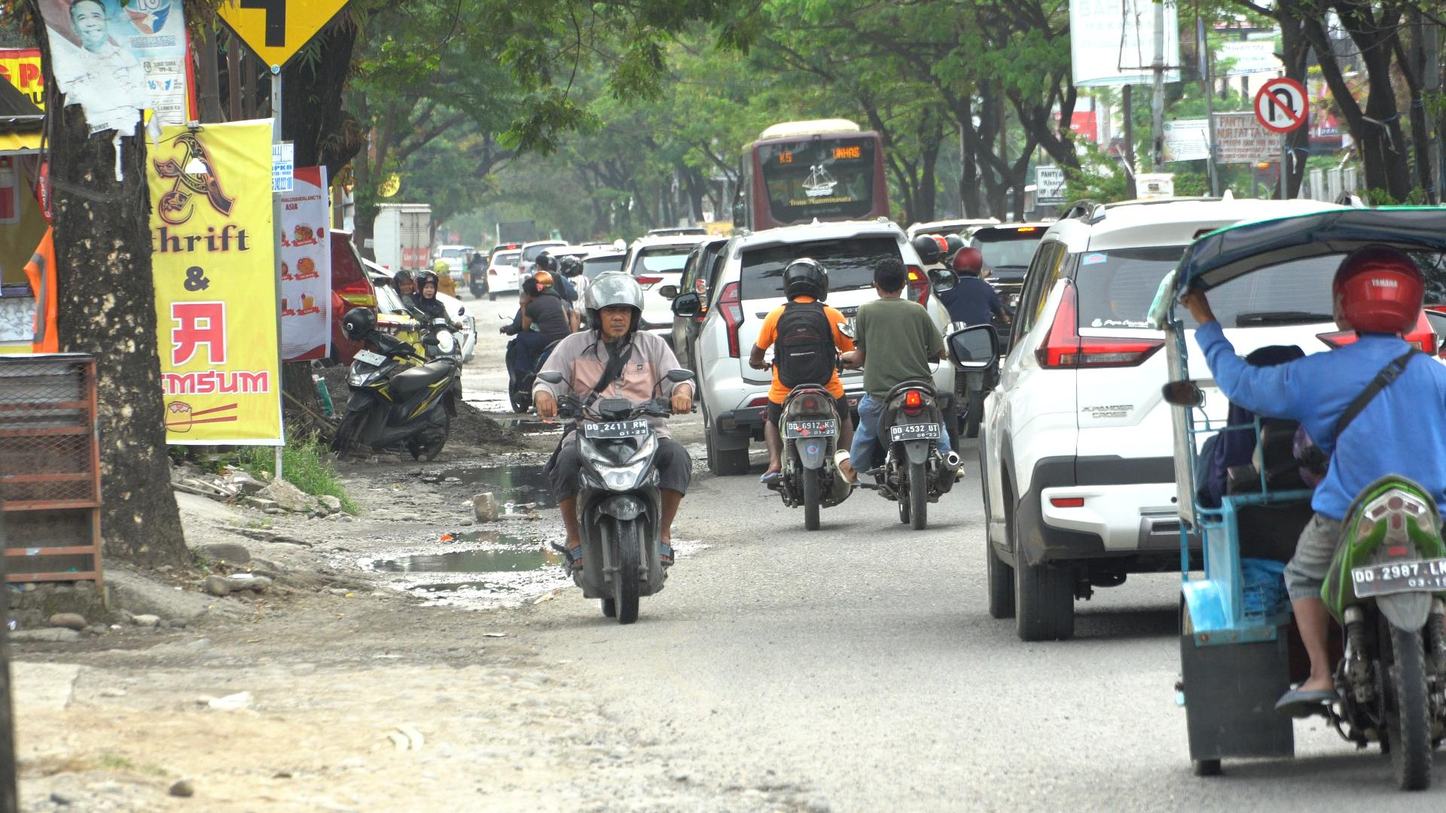number-plate: (580, 414, 649, 436)
